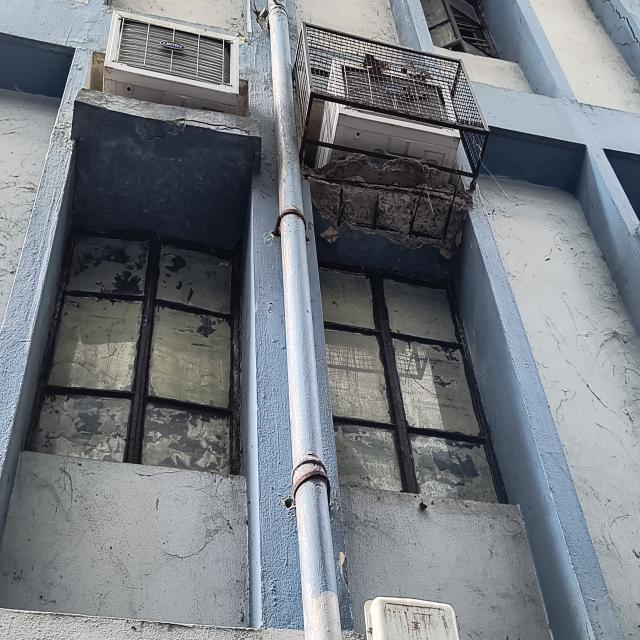crack: (94, 96, 256, 172), (599, 0, 640, 54)
spalling: (301, 152, 472, 254)
stain_mould: (293, 469, 331, 505), (278, 209, 306, 233)
